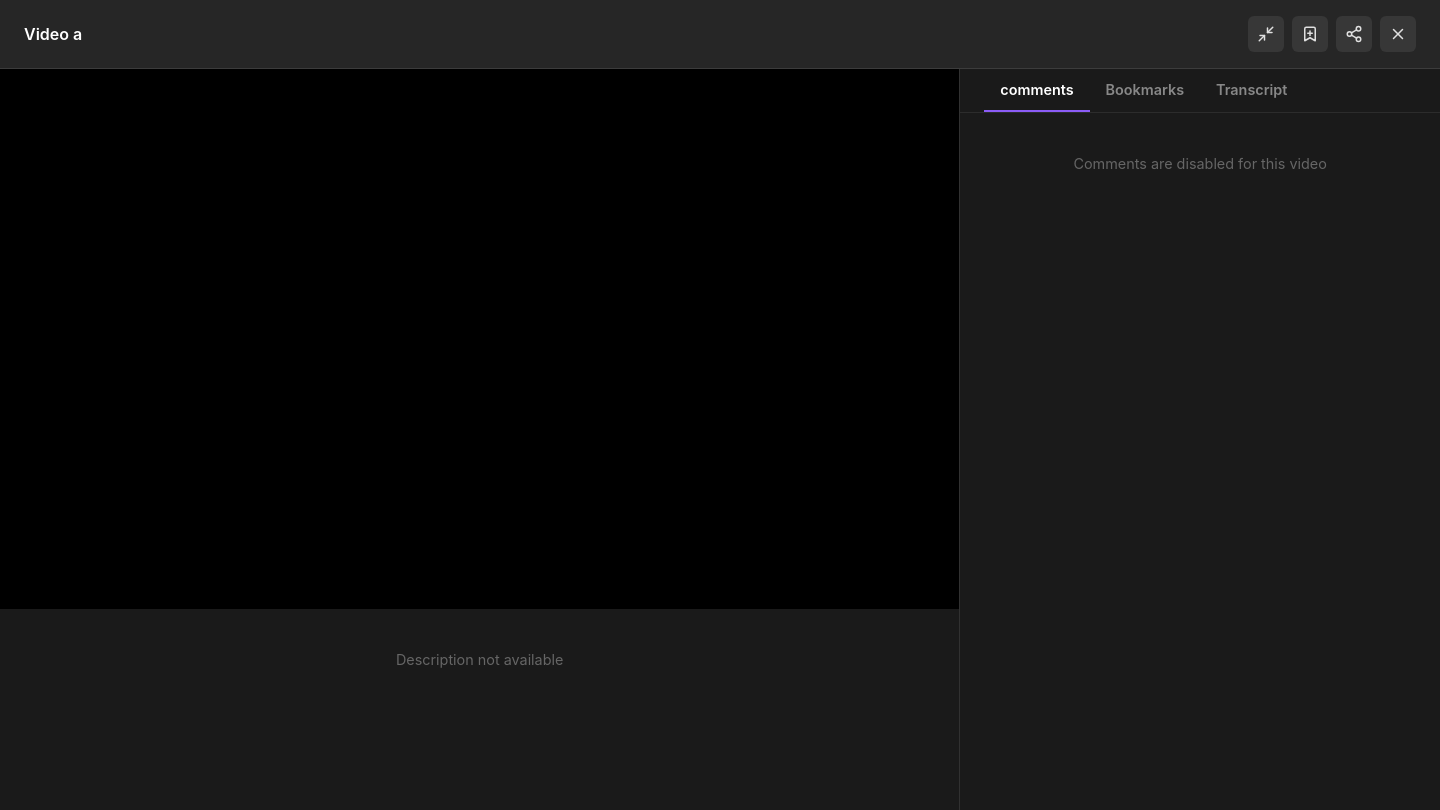
transcript tab › maps a successful response with zero segments to the empty state, not the ok state
Click the button with class "tab" showing "Transcript" at x=1252, y=90, box [1200,69,1303,112]
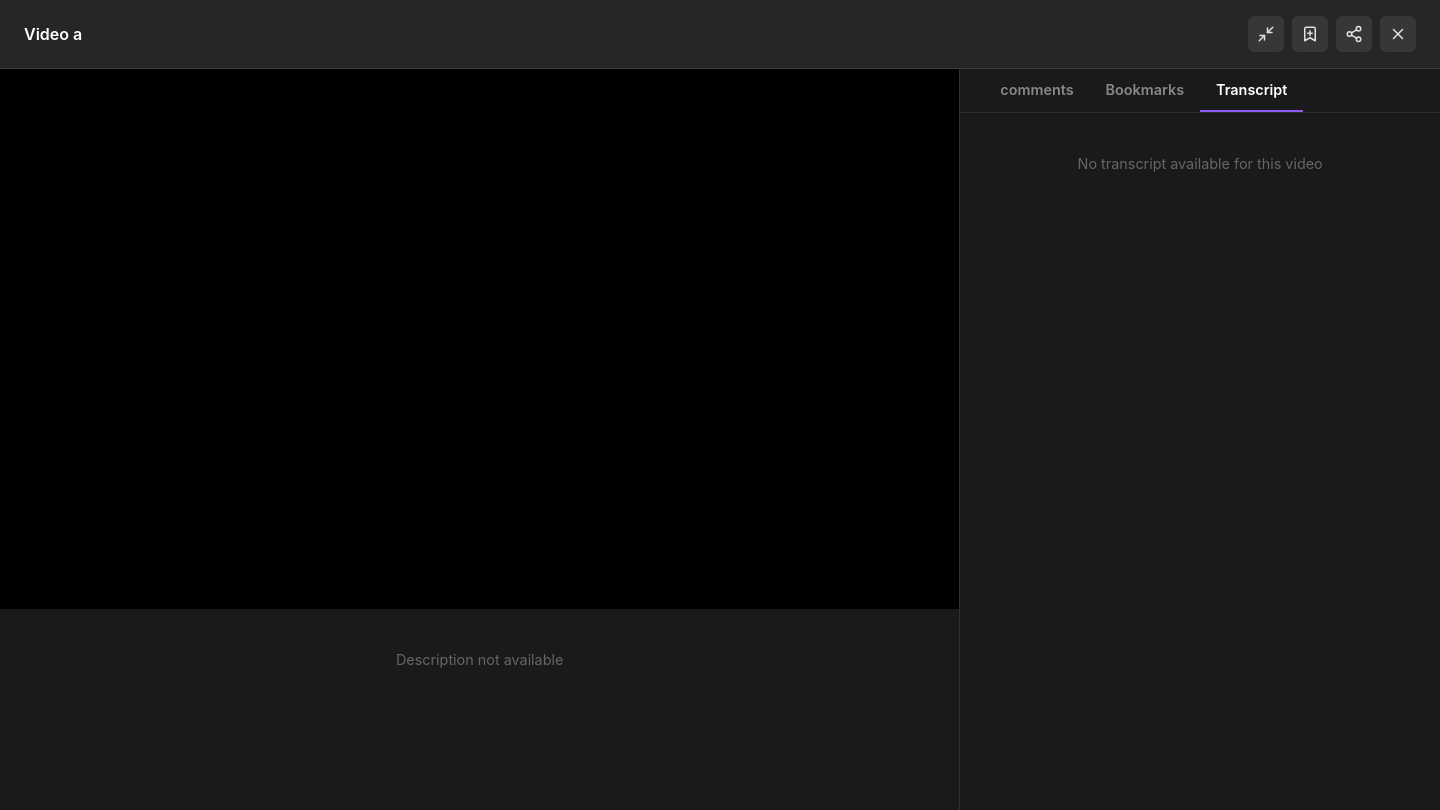
Expected: the text "No transcript available" is shown, [1078,155,1323,172]
